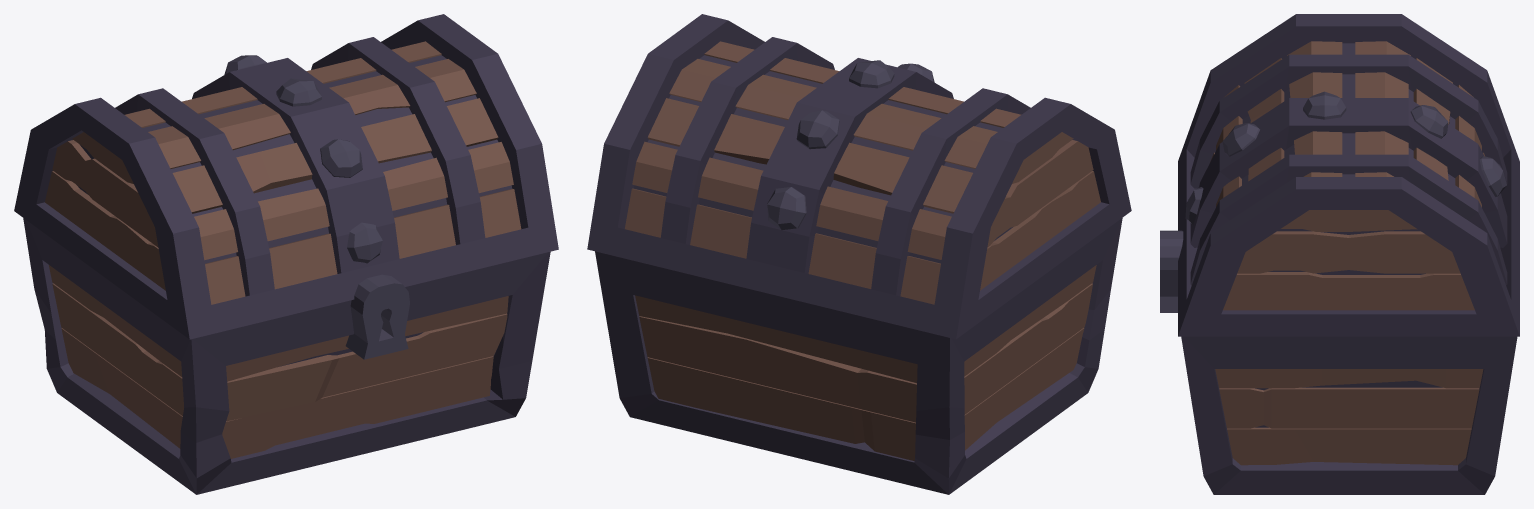
The model's file is chest-wood.glb.
The picture shows the model from 3 angles, left to right: view 1: azimuth 30°, elevation 25°; view 2: azimuth 150°, elevation 25°; view 3: azimuth 270°, elevation 25°; orthographic projection. The views are drawn at different scales.
Parts seen in each view (by area): view 1: Chest_Closed_Cube.016; view 2: Chest_Closed_Cube.016; view 3: Chest_Closed_Cube.016.
Part boxes in pixels (<box>): Chest_Closed_Cube.016: <box>14,14,558,494</box>; Chest_Closed_Cube.016: <box>587,14,1131,494</box>; Chest_Closed_Cube.016: <box>1160,14,1519,494</box>.
Bounding box in the file's own units: 0.9496 × 0.8185 × 0.8238.
